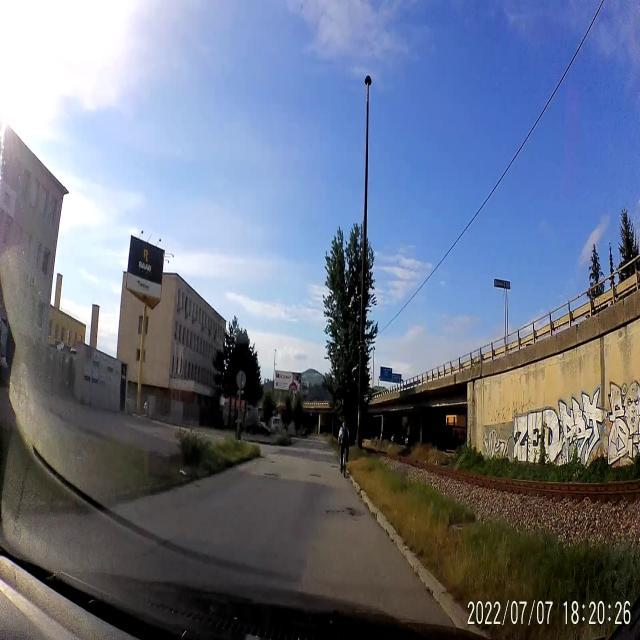Pothole: (322, 502, 368, 524), (259, 464, 281, 490), (304, 469, 321, 484), (331, 463, 338, 471)
